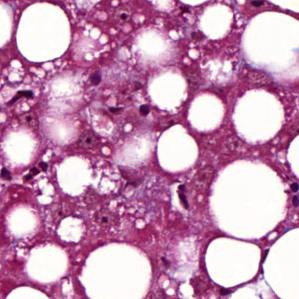steatosis: (12, 0, 73, 64), (231, 86, 287, 146), (201, 237, 265, 289), (156, 123, 201, 174), (184, 94, 233, 132)
